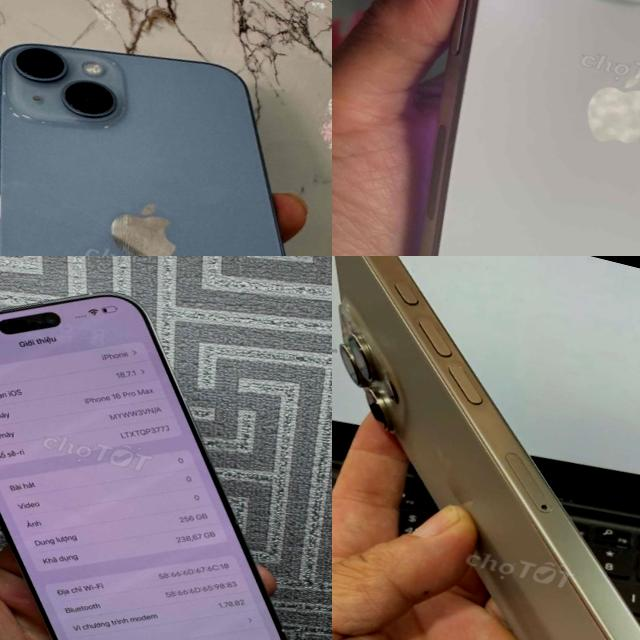gen_14: (0, 0, 332, 256)
gen_15: (360, 0, 640, 256)
gen_16: (332, 256, 640, 640), (0, 293, 282, 640)
